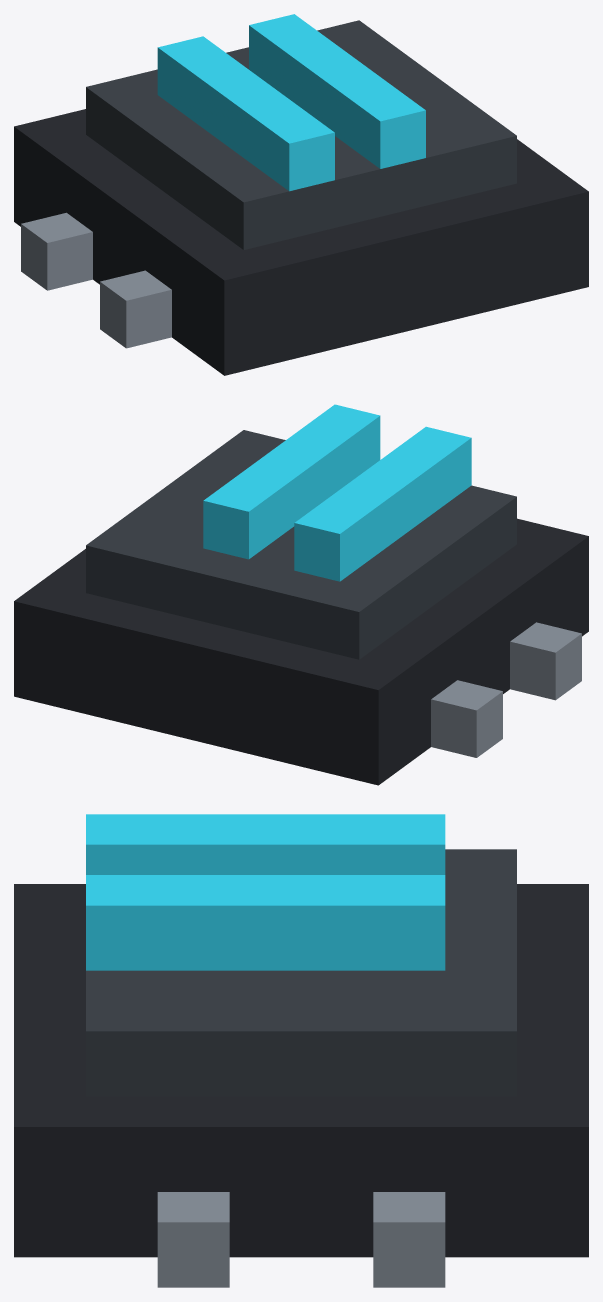
File: item_data_chip.glb
3 renders of one model, top to bottom at view 1: azimuth 30°, elevation 25°; view 2: azimuth 150°, elevation 25°; view 3: azimuth 270°, elevation 25°, orthographic. The views are drawn at different scales.
Visible parts, largest first — view 1: Chip mesh, Die mesh, Trace mesh, Pin mesh; view 2: Chip mesh, Die mesh, Trace mesh, Pin mesh; view 3: Chip mesh, Die mesh, Trace mesh, Pin mesh.
Boxes of the visible parts, left/top/right/bottom form: Chip mesh: left=14, top=109, right=588, bottom=375; Die mesh: left=86, top=20, right=516, bottom=249; Trace mesh: left=157, top=14, right=425, bottom=191; Pin mesh: left=21, top=212, right=171, bottom=348; Chip mesh: left=14, top=518, right=588, bottom=785; Die mesh: left=86, top=430, right=516, bottom=659; Trace mesh: left=203, top=404, right=471, bottom=581; Pin mesh: left=431, top=622, right=581, bottom=757; Chip mesh: left=14, top=884, right=588, bottom=1257; Die mesh: left=86, top=849, right=516, bottom=1096; Trace mesh: left=86, top=814, right=445, bottom=970; Pin mesh: left=157, top=1192, right=445, bottom=1287.
Size of the model in its own units: 10 by 4 by 8.
Materials: 1 (1 with a texture image).
